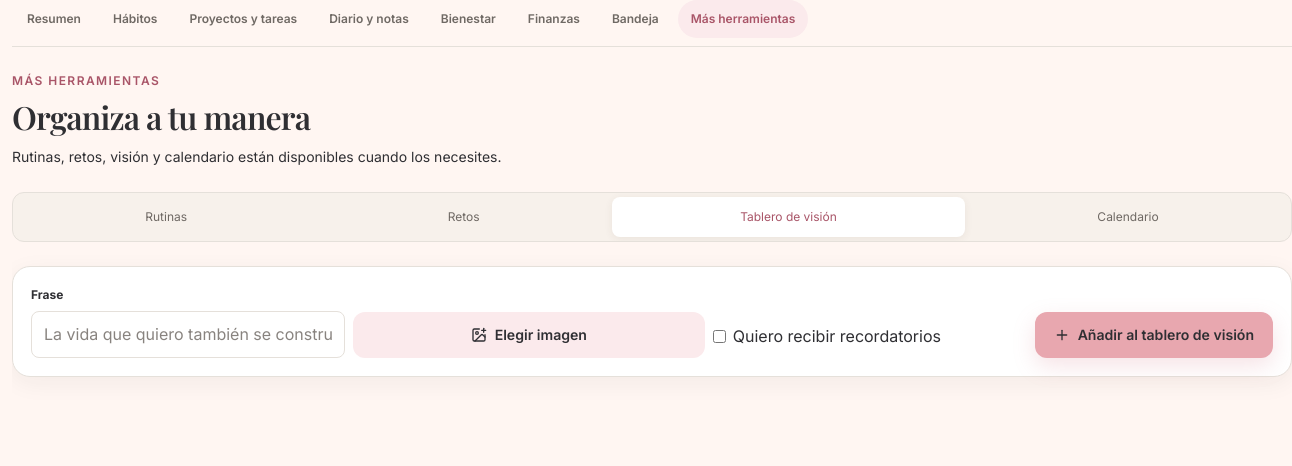
Scenario: LifeHub saved editors › locks vision controls until a failed save settles and retains the submitted draft
Type "Una vida más mía" into the field labelled "Frase" at {"x": 188, "y": 335}, box [31,311,345,358]
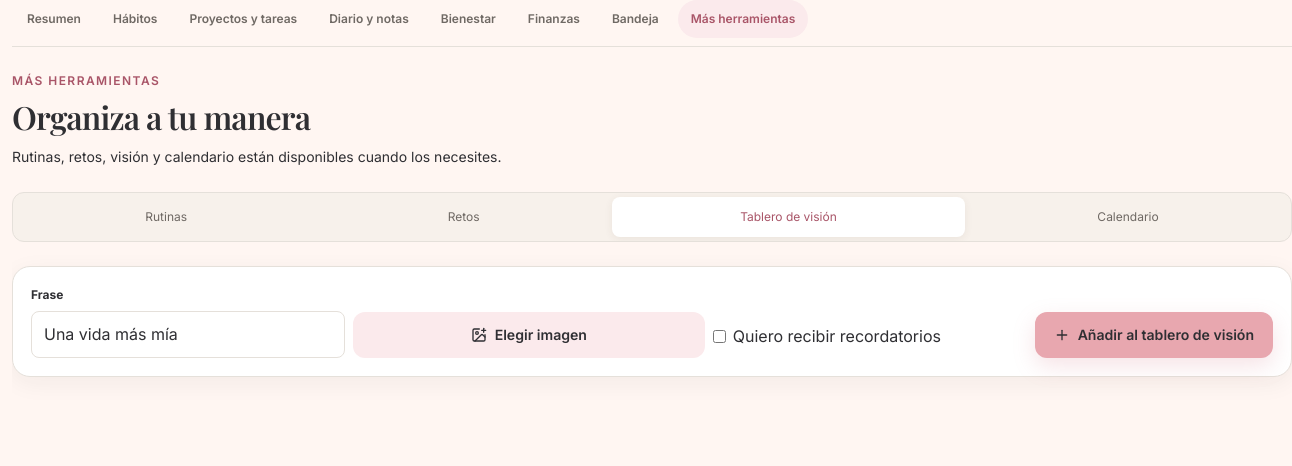
Click the button "Añadir al tablero de visión" at {"x": 1154, "y": 335}, box [1035,312,1273,358]
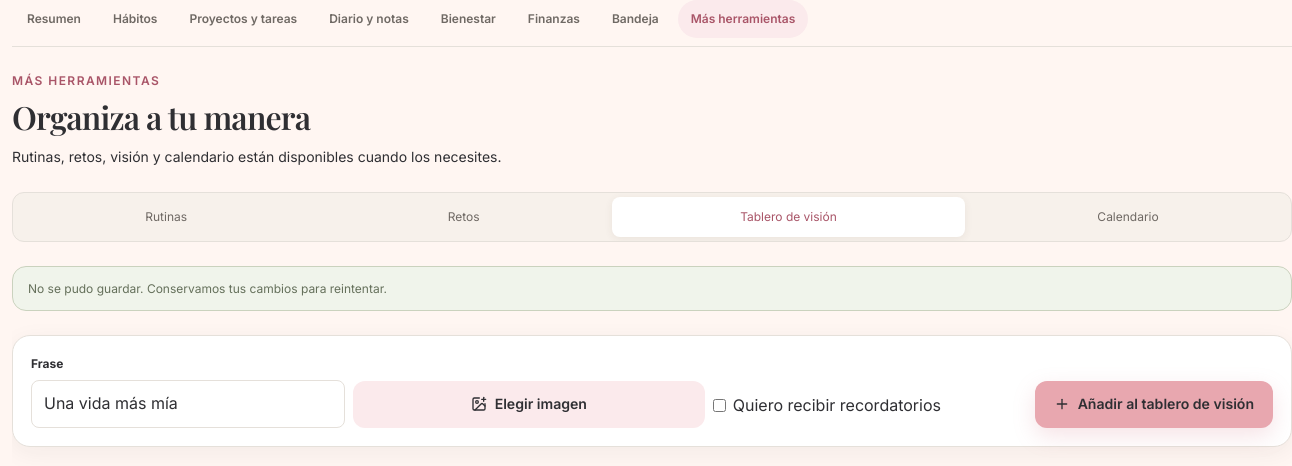
Check: the message shows "Conservamos", box [28,281,387,296]
